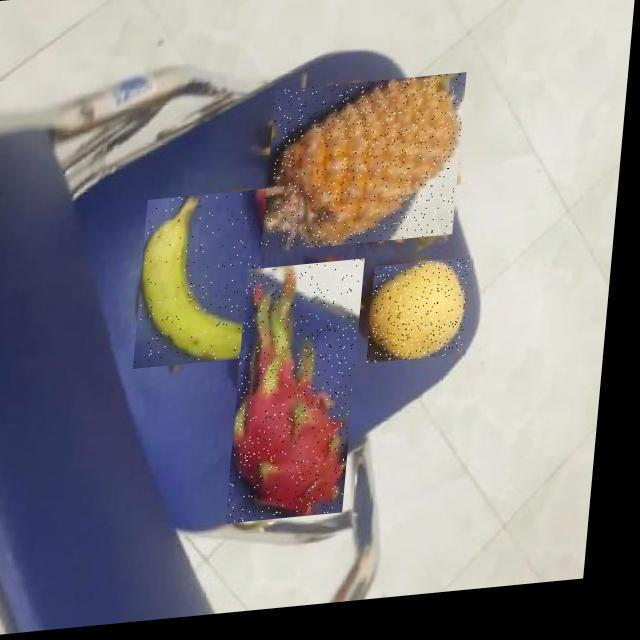bottles: (230, 268, 346, 515)
cardboard: (67, 52, 480, 533)
